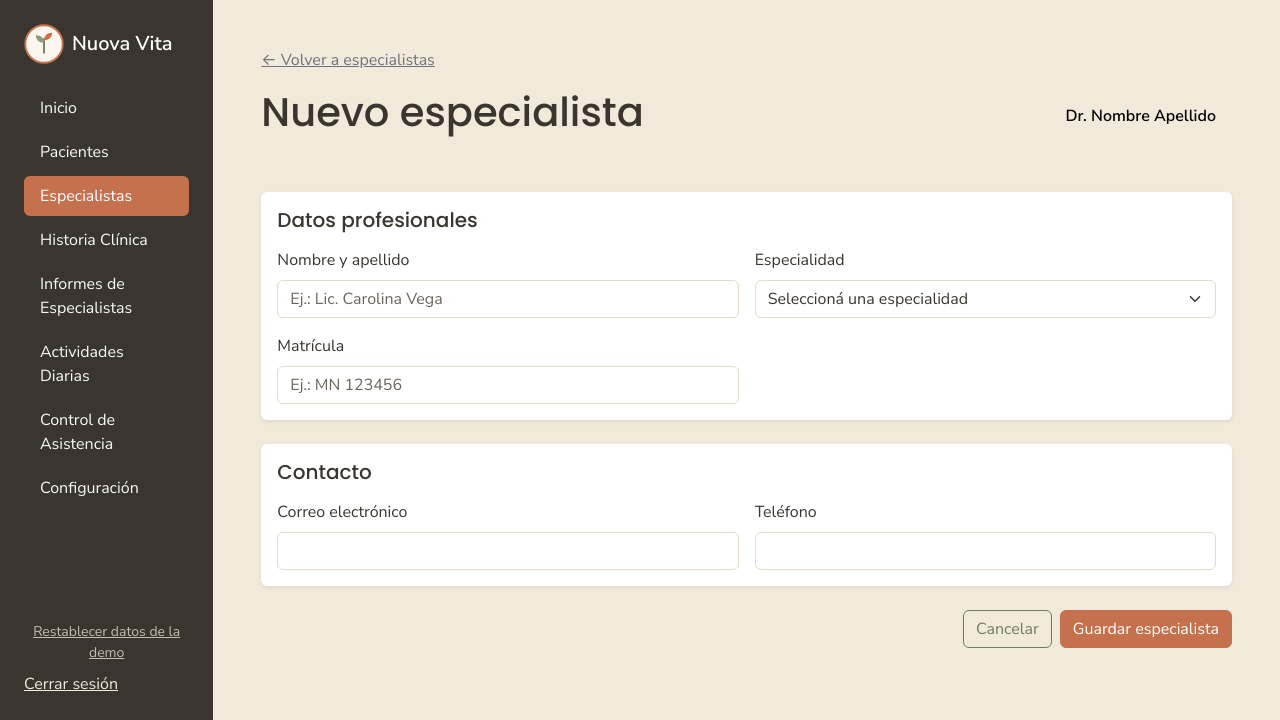
Test case: alta de especialista › valida el formato de la matrícula
This screenshot has width=1280, height=720.
Type "Lic. Sofía Paz" into the field labelled "Nombre y apellido" at (508, 299), box [277,280,739,318]
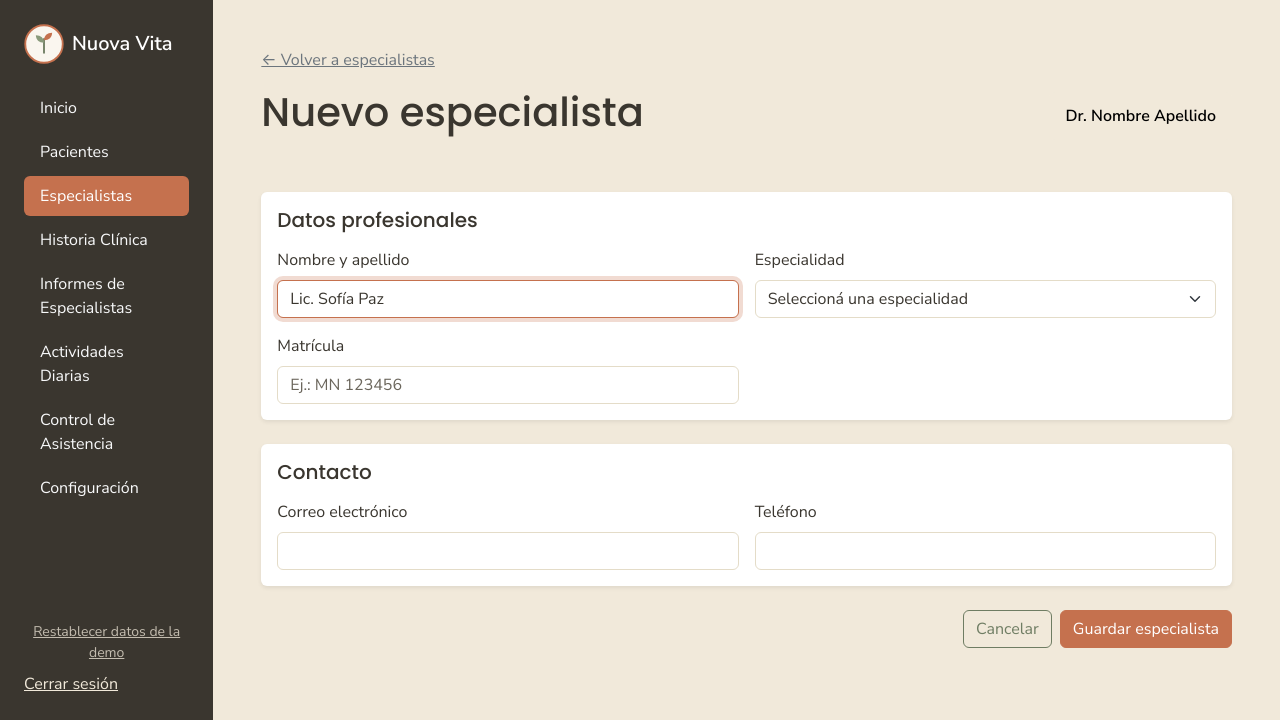
Select "Fonoaudiología" in the dropdown labelled "Especialidad" at (985, 299), box [755,280,1216,318]
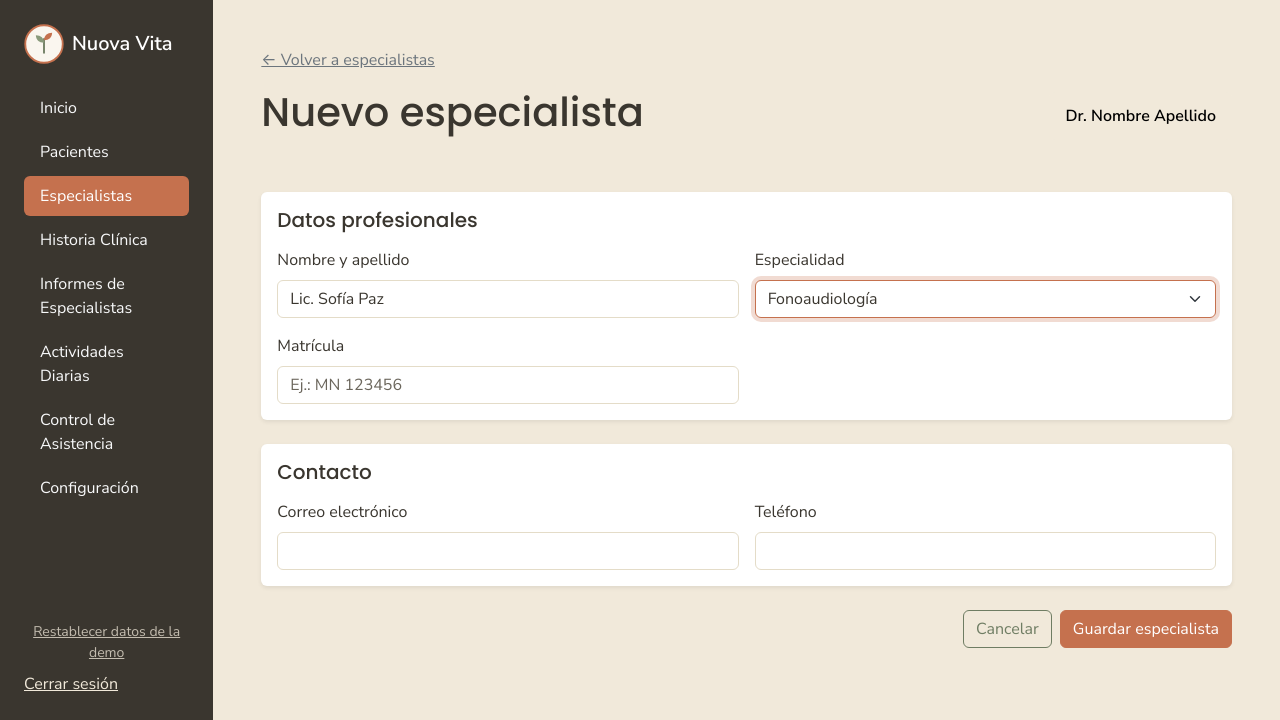
Type "123" into the field labelled "Matrícula" at (508, 385), box [277,366,739,404]
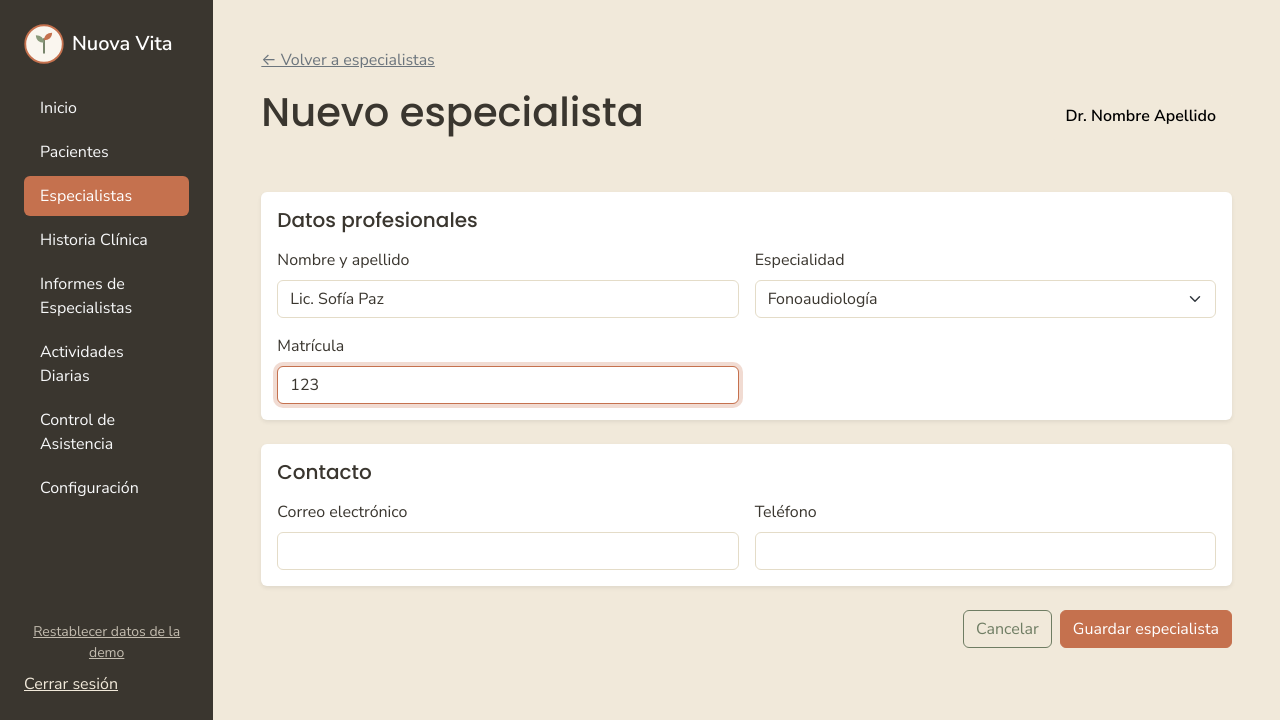
Type "SPAZ@nuovavita.com" into the field labelled "Correo electrónico" at (508, 551), box [277,532,739,570]
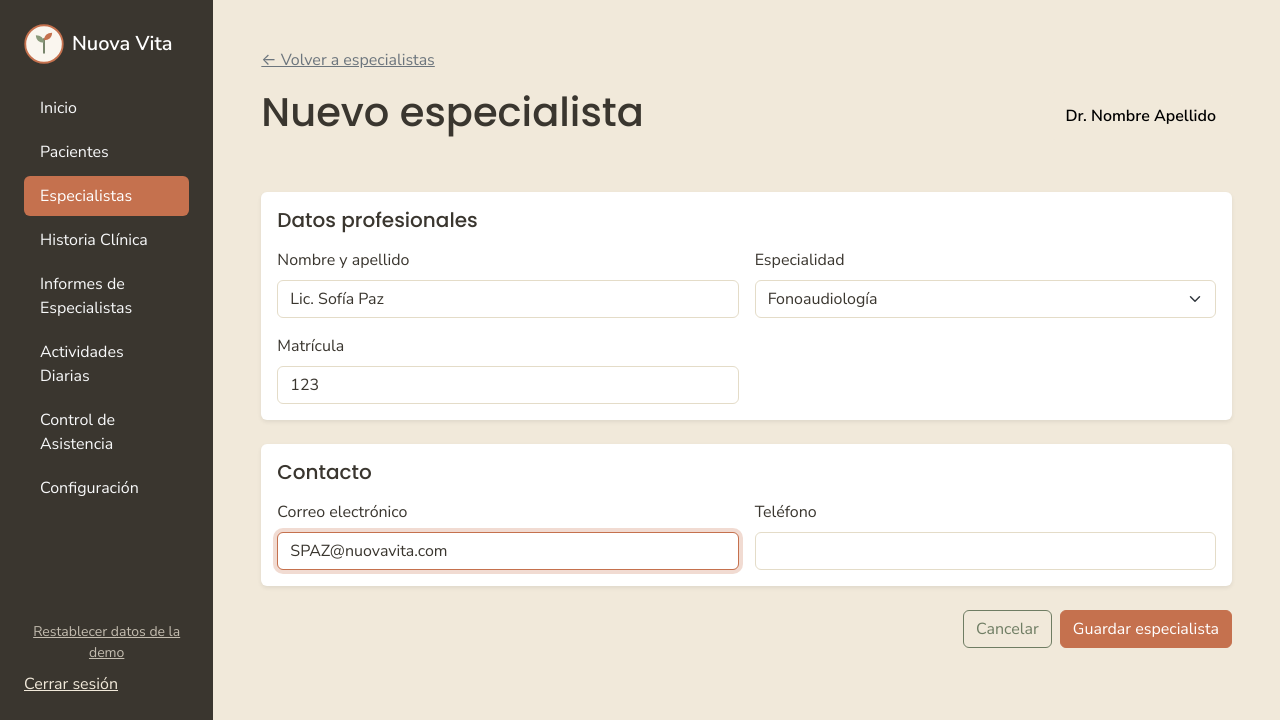
Type "11 4000-2000" into the field labelled "Teléfono" at (985, 551), box [755,532,1216,570]
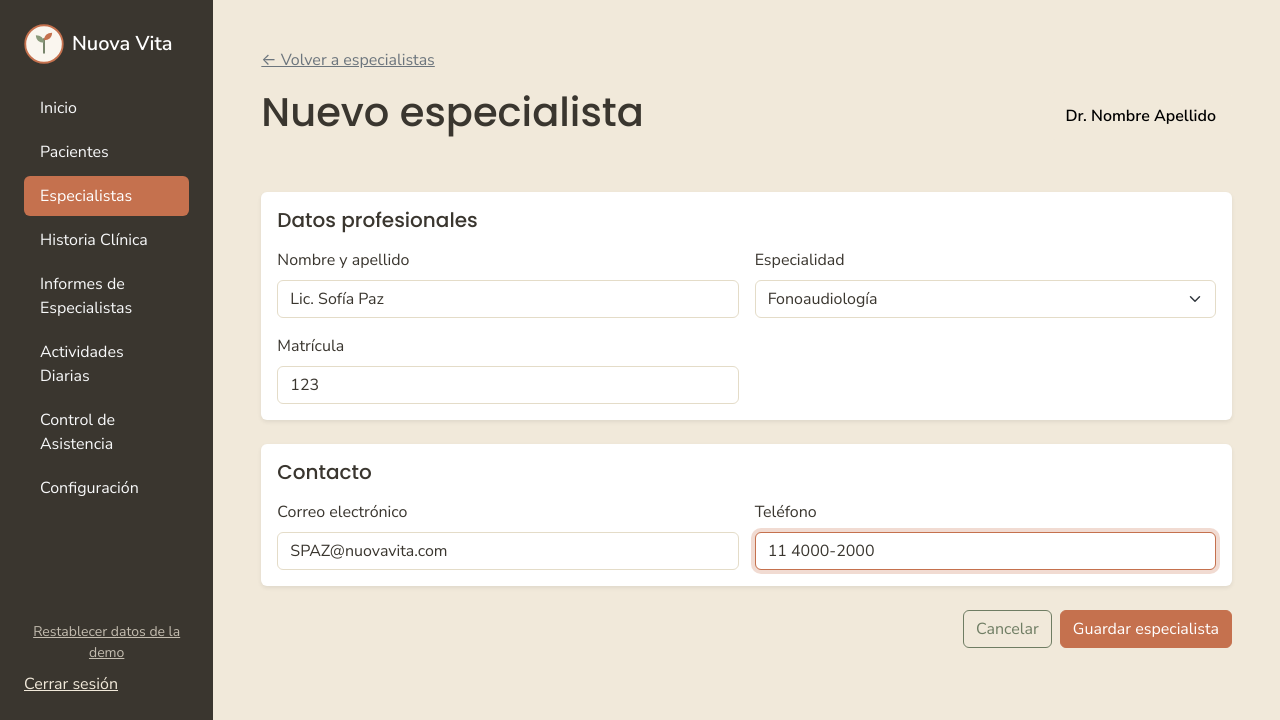
Click the button "Guardar especialista" at (1146, 629), box [1060,610,1232,648]
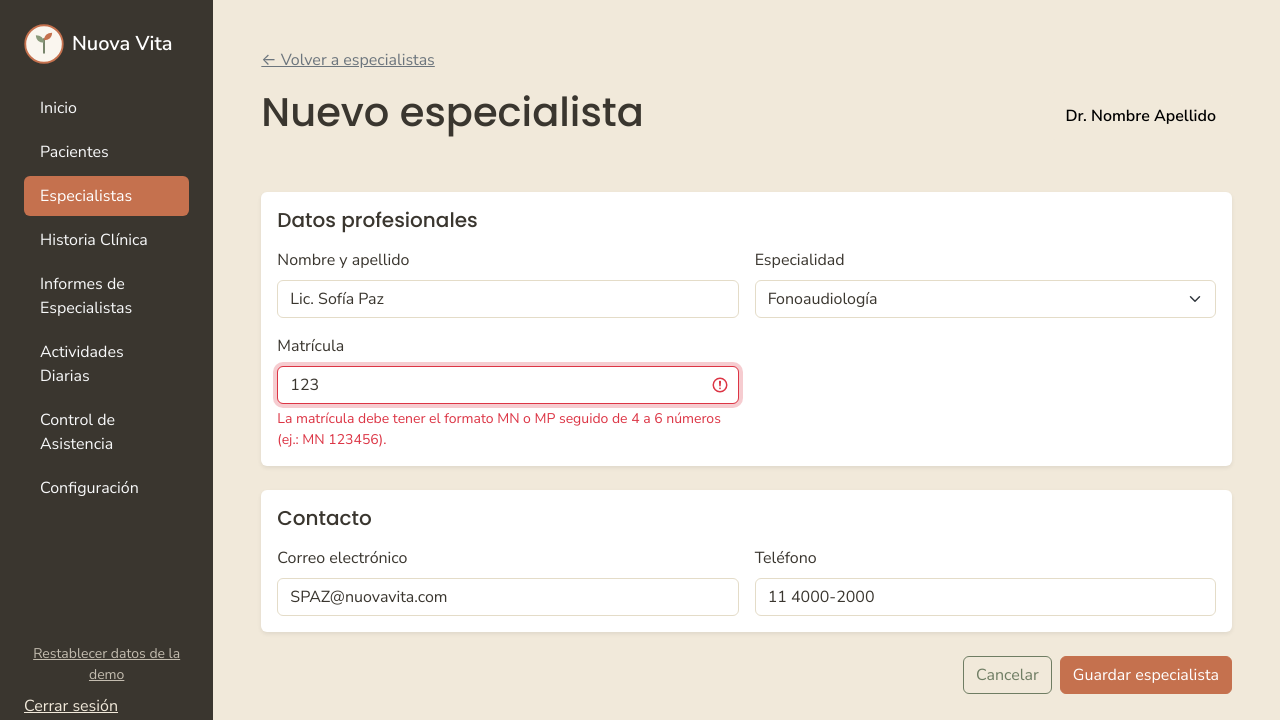
Expected: the text "MN o MP seguido de 4 a 6 números" is shown, [277,409,721,449]
